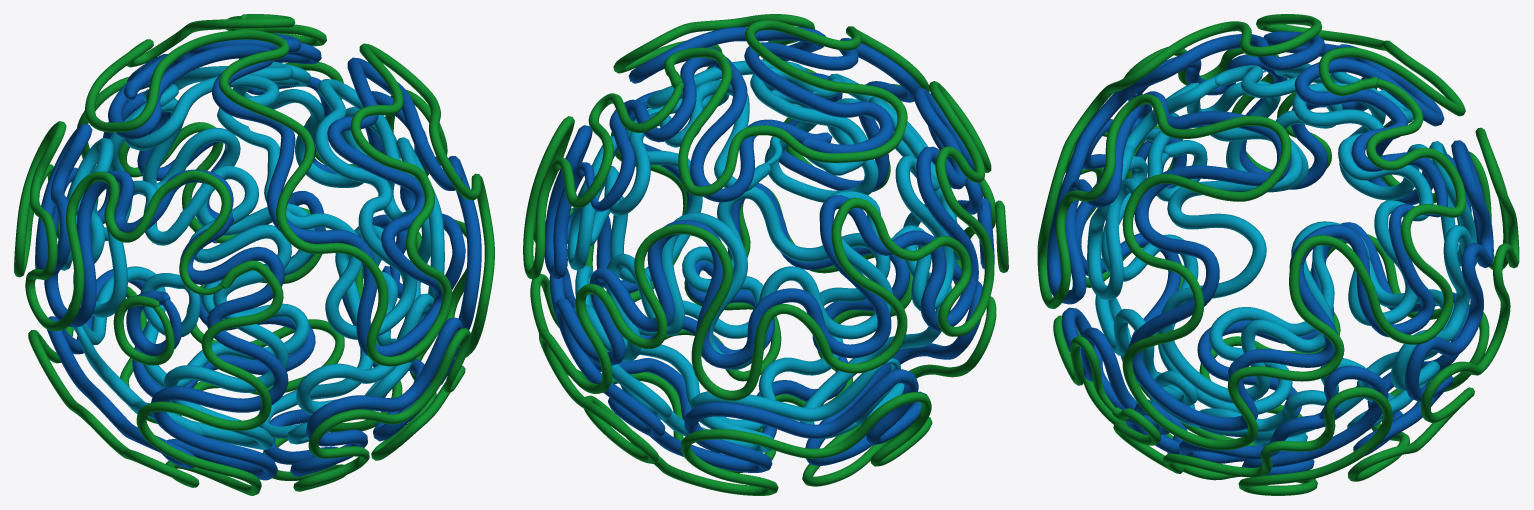
3 views of the same model, side by side, from view 1: azimuth 30°, elevation 25°; view 2: azimuth 150°, elevation 25°; view 3: azimuth 270°, elevation 25° (orthographic).
Parts seen in each view (by area): view 1: Untitled_12_Wire_geo; view 2: Untitled_12_Wire_geo; view 3: Untitled_12_Wire_geo.
Boxes of the visible parts, x1,y1,x2,y2 form: Untitled_12_Wire_geo: [14, 14, 494, 495]; Untitled_12_Wire_geo: [523, 14, 1008, 495]; Untitled_12_Wire_geo: [1037, 14, 1519, 495].
Bounding box in the file's own units: 6.75 × 6.78 × 6.79.
